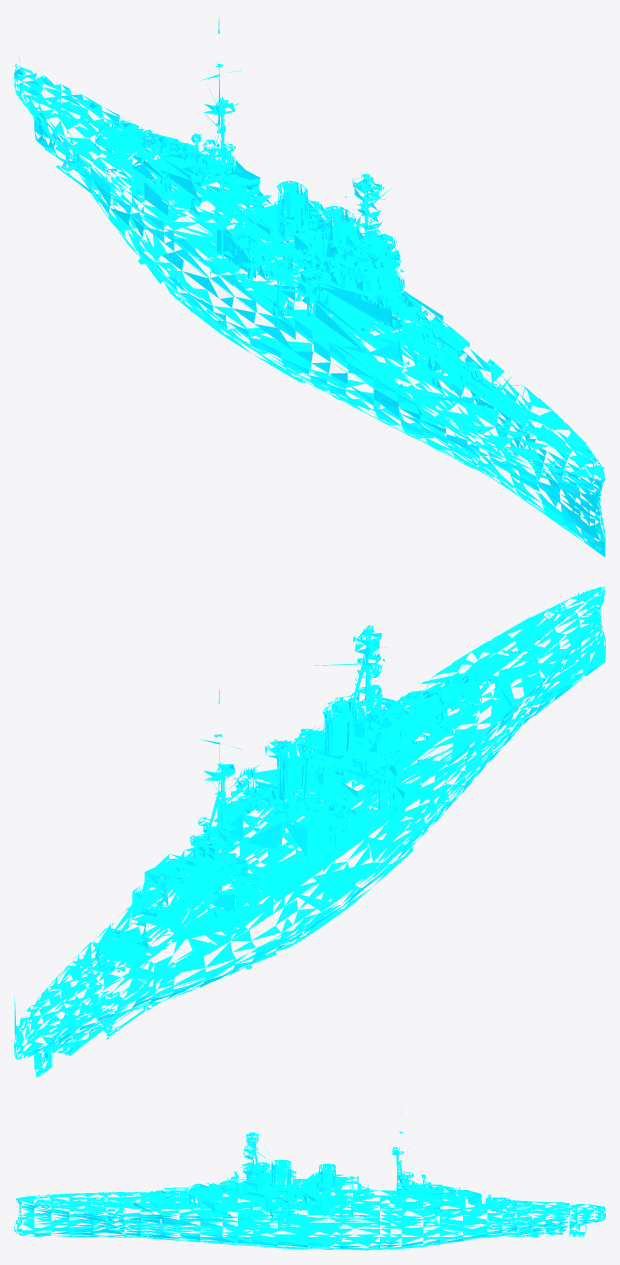
The model's file is PBSB536.glb.
3 renders of one model, top to bottom at view 1: azimuth 30°, elevation 25°; view 2: azimuth 150°, elevation 25°; view 3: azimuth 270°, elevation 25°, orthographic. The views are drawn at different scales.
Parts seen in each view (by area): view 1: hull_mid, hull_bow, hull_stern, main_battery, secondary_battery; view 2: hull_mid, hull_bow, hull_stern, main_battery, secondary_battery; view 3: hull_mid, hull_bow, hull_stern, main_battery, secondary_battery.
Boxes of the visible parts, x1,y1,x2,y2 form: hull_mid: [56, 18, 544, 477]; hull_bow: [454, 398, 605, 556]; hull_stern: [14, 57, 119, 177]; main_battery: [77, 106, 499, 397]; secondary_battery: [139, 133, 401, 311]; hull_mid: [56, 629, 544, 1039]; hull_bow: [452, 586, 605, 742]; hull_stern: [14, 977, 119, 1077]; main_battery: [77, 661, 499, 979]; secondary_battery: [139, 727, 401, 917]; hull_mid: [115, 1106, 538, 1250]; hull_bow: [14, 1191, 124, 1237]; hull_stern: [528, 1202, 605, 1236]; main_battery: [126, 1182, 537, 1210]; secondary_battery: [261, 1170, 476, 1216].
Size of the model in its own units: 2.06 by 3.92 by 16.12.
